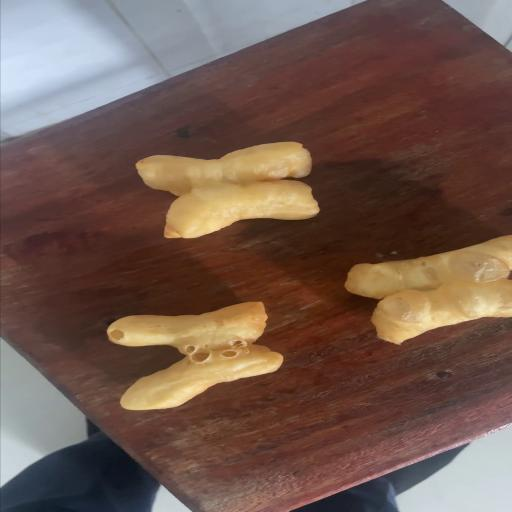street_golden_defect: (107, 302, 283, 410), (345, 235, 512, 344)
street_golden_good: (136, 142, 319, 238)
